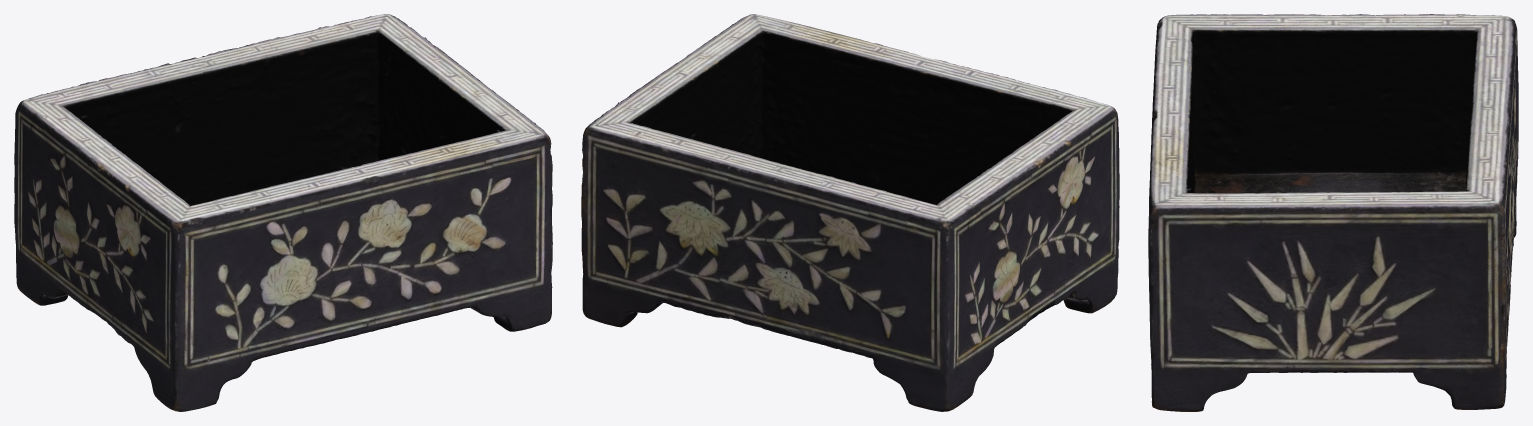
The model's file is najeonham.glb.
The picture shows the model from 3 angles, left to right: view 1: azimuth 30°, elevation 25°; view 2: azimuth 150°, elevation 25°; view 3: azimuth 270°, elevation 25°; orthographic projection. The views are drawn at different scales.
Parts seen in each view (by area): view 1: Model; view 2: Model; view 3: Model.
Part boxes in pixels (x1,y1,x2,y2): Model: (14,14,552,411); Model: (581,14,1119,411); Model: (1148,14,1518,411).
Size of the model in its own units: 0.154 by 0.0762 by 0.1212.
Materials: 1 (1 with a texture image).
